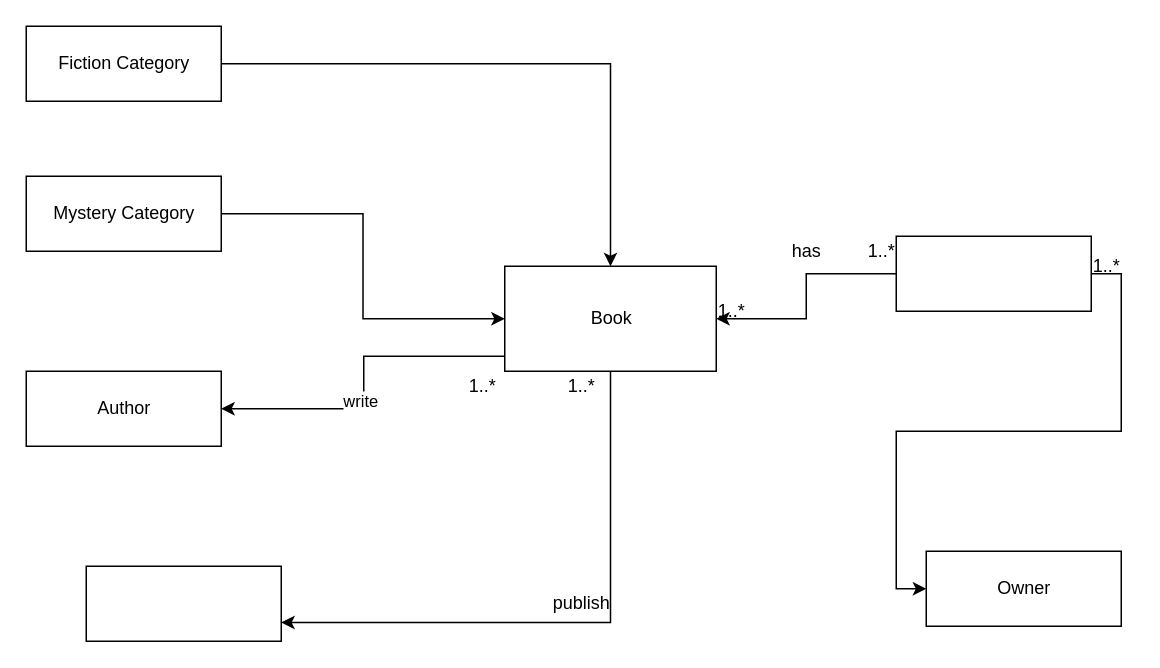
Image size: 1160x668. Some labels were removed from this diagram. The shapes that lost their labels are listed below. From the top down, each one's box as (x1, y1, x2, y2) in pixels, then its label:
(895, 235, 1091, 311): Library
(85, 565, 281, 641): Publisher
